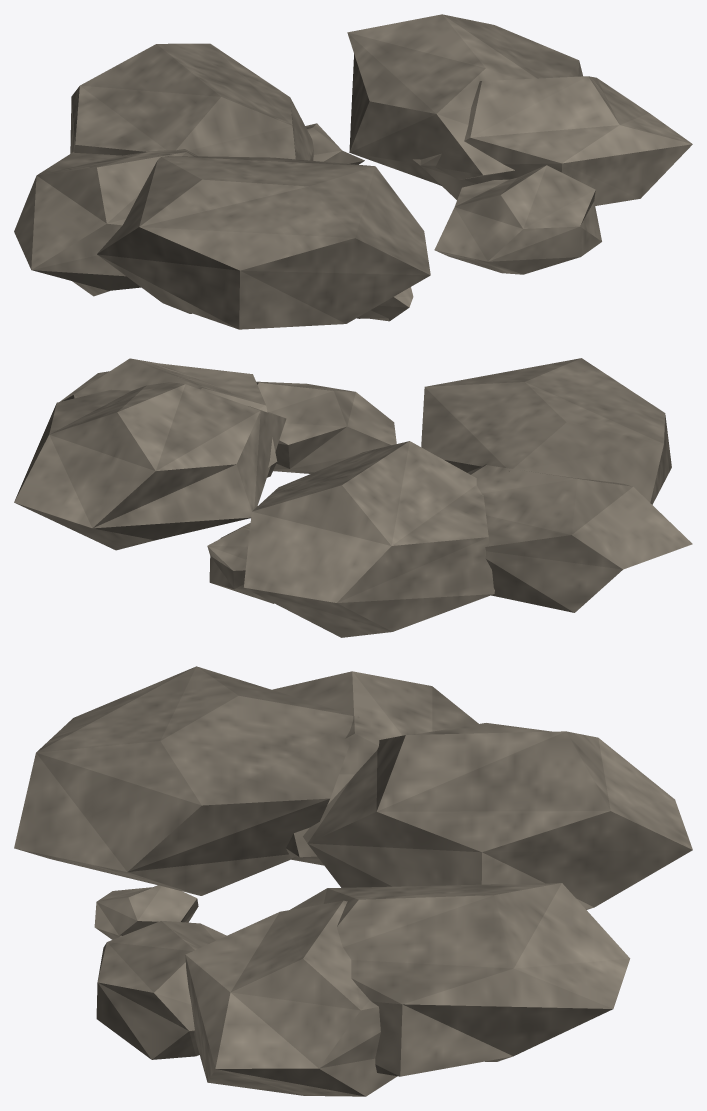
File: bronzeBlocks.glb
3 views of the same model, one above another, from view 1: azimuth 30°, elevation 25°; view 2: azimuth 150°, elevation 25°; view 3: azimuth 270°, elevation 25° (orthographic). The views are drawn at different scales.
Parts seen in each view (by area): view 1: part_0; view 2: part_0; view 3: part_0.
Boxes of the visible parts, x1,y1,x2,y2 form: part_0: (14, 14, 692, 329); part_0: (14, 358, 692, 637); part_0: (14, 666, 692, 1096).
Size of the model in its own units: 1.15 by 0.2746 by 0.893.
1 material, 1 textured.
